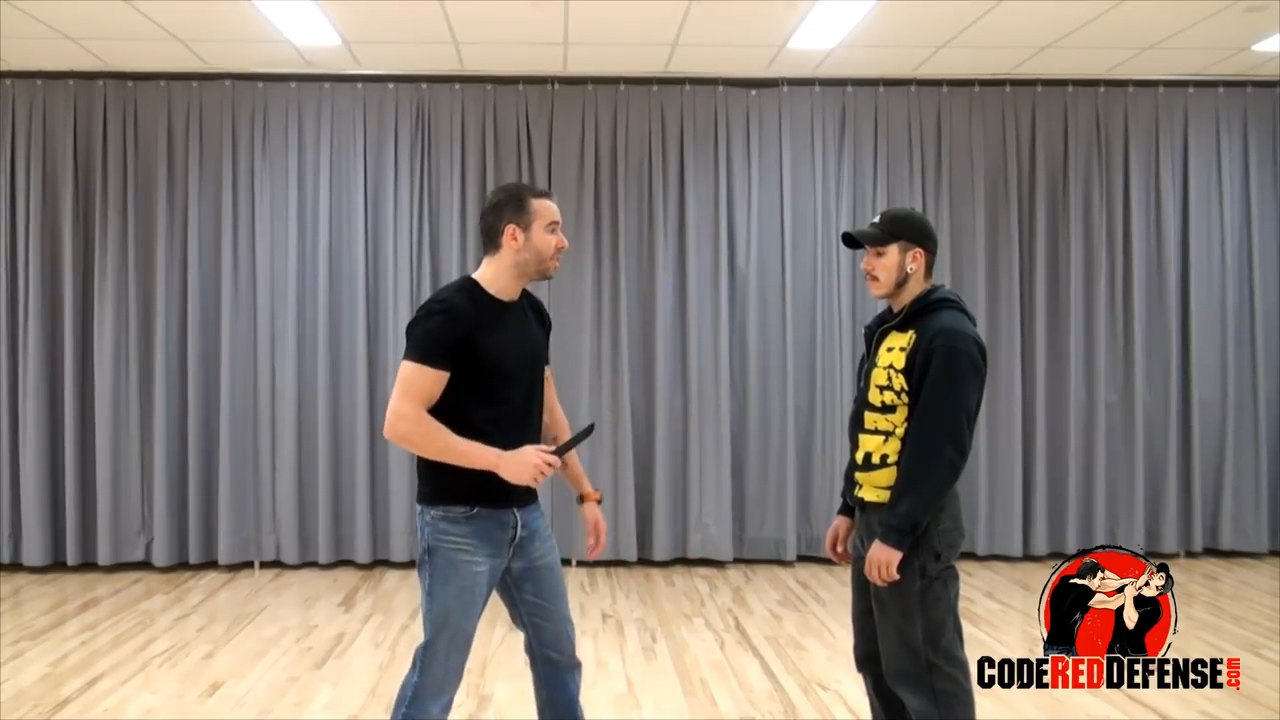knife: (523, 416, 598, 489)
